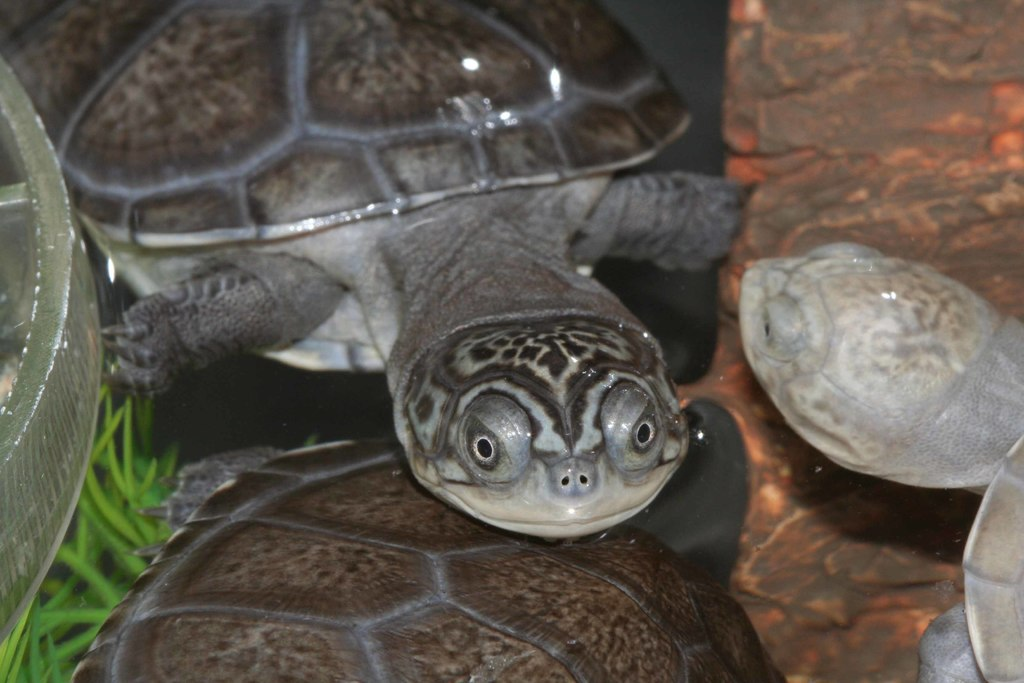Sea turtles: (0, 0, 755, 531), (72, 436, 781, 682), (734, 238, 1023, 682)
